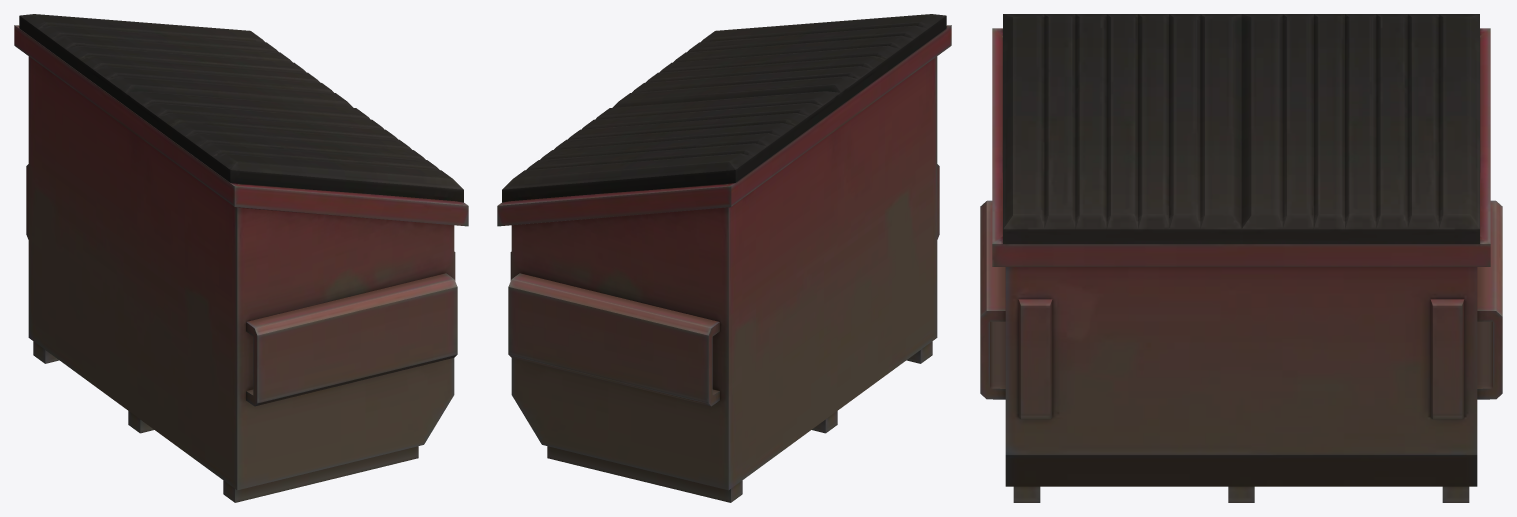
The picture shows the model from 3 angles, left to right: view 1: azimuth 30°, elevation 25°; view 2: azimuth 150°, elevation 25°; view 3: azimuth 270°, elevation 25°; orthographic projection. The views are drawn at different scales.
Parts seen in each view (by area): view 1: body0_model0_lod0_mesh0; view 2: body0_model0_lod0_mesh0; view 3: body0_model0_lod0_mesh0.
Boxes of the visible parts, box(x1,y1,x2,y2) form: body0_model0_lod0_mesh0: box(14, 14, 468, 502); body0_model0_lod0_mesh0: box(497, 14, 951, 502); body0_model0_lod0_mesh0: box(980, 14, 1502, 502).
Size of the model in its own units: 44.94 by 62.51 by 76.86.
Materials: 1 (1 with a texture image).
